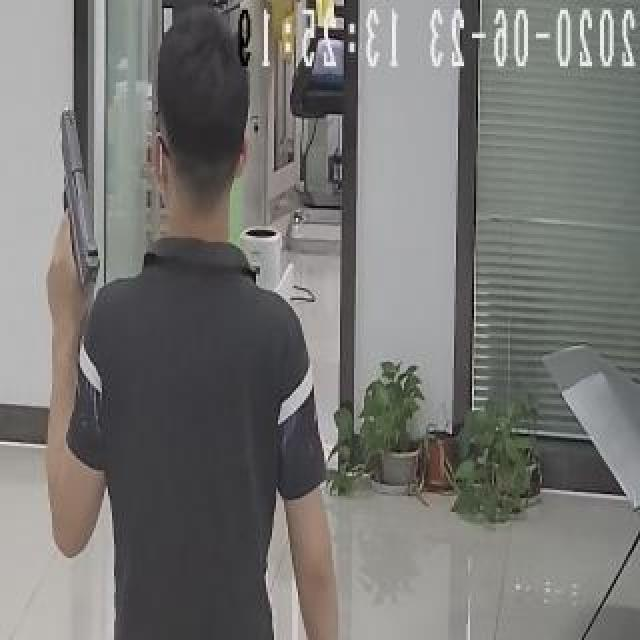Guns: (46, 96, 111, 294)
